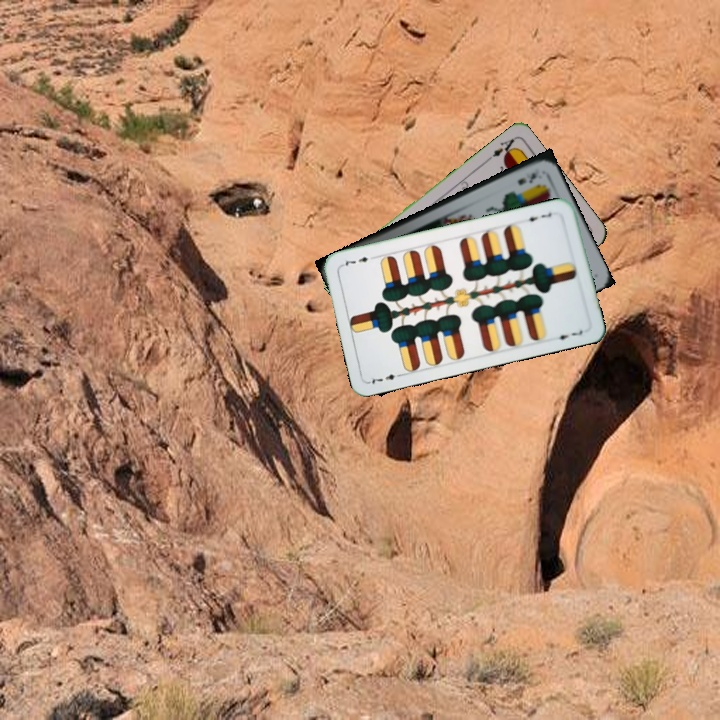E7: (365, 370, 406, 386), (521, 208, 554, 224)
EA: (483, 134, 520, 164)
EK: (513, 168, 539, 188)
